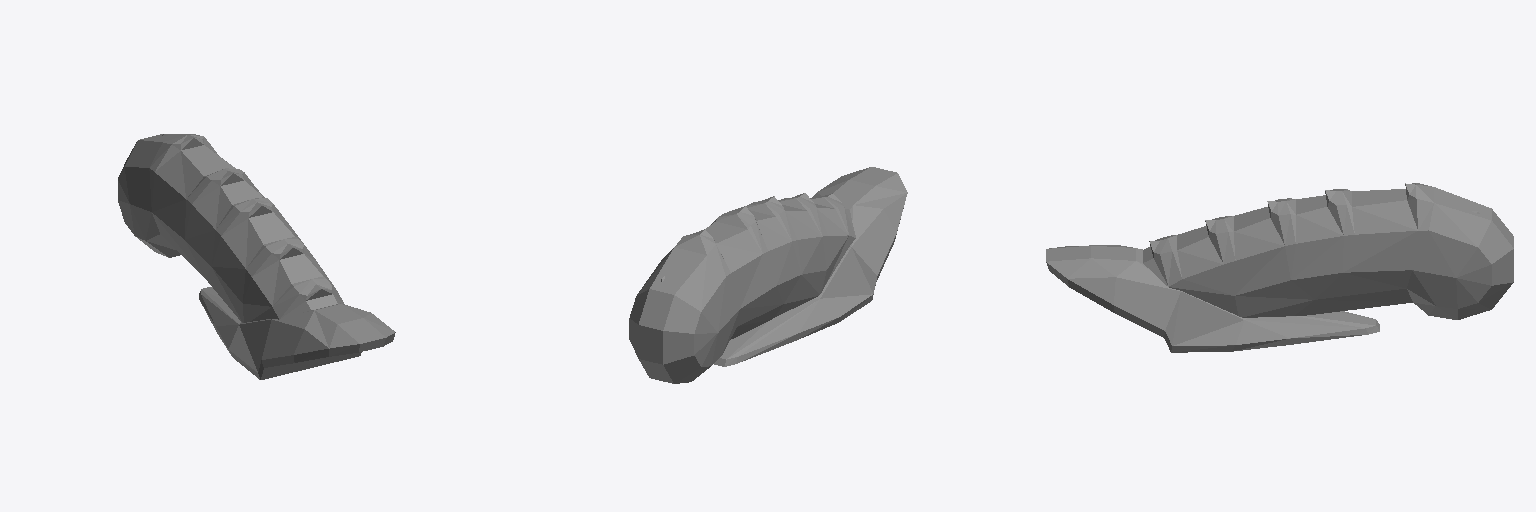
The model's file is mag2.obj.
The picture shows the model from 3 angles: view 1: azimuth 30°, elevation 25°; view 2: azimuth 150°, elevation 25°; view 3: azimuth 270°, elevation 25°; orthographic projection.
Visible parts, largest first — view 1: mag2; view 2: mag2; view 3: mag2.
Boxes of the visible parts, box(x1,y1,x2,y2) form: mag2: box(118, 134, 395, 379); mag2: box(629, 167, 907, 383); mag2: box(1046, 183, 1513, 352).
Size of the model in its own units: 4.51 by 6.02 by 17.56.